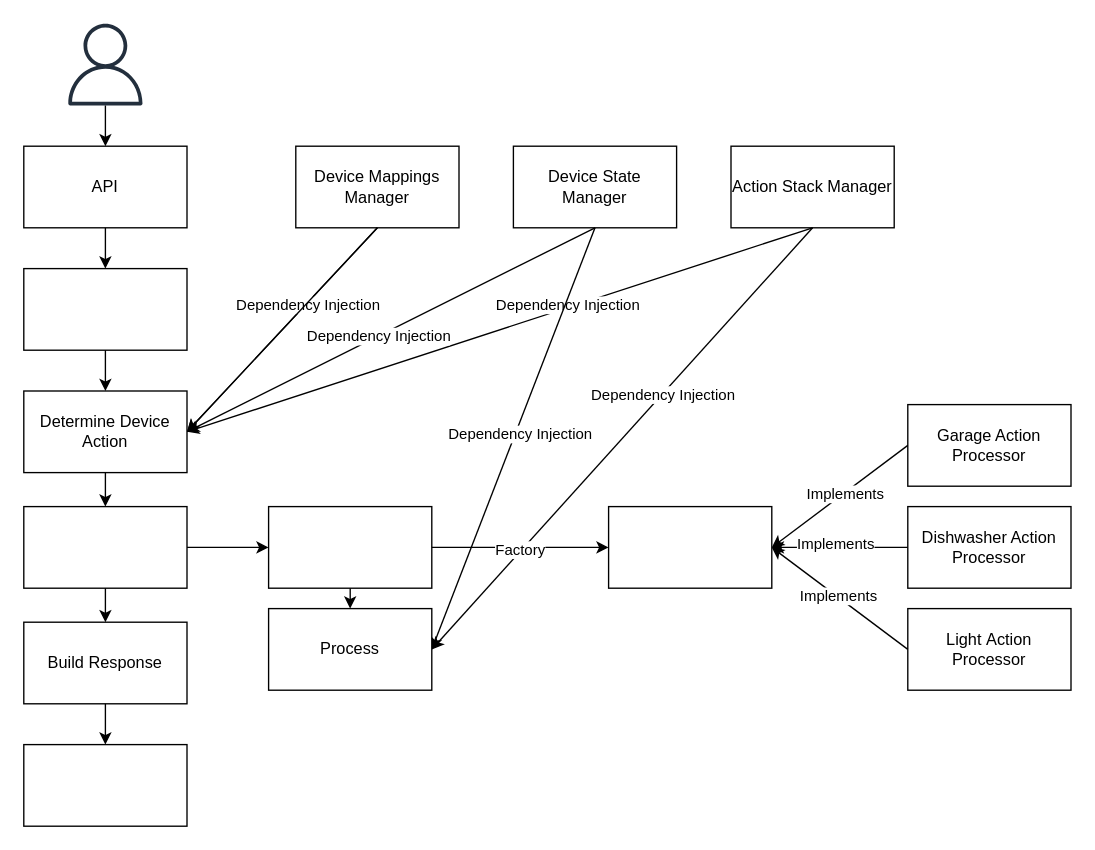
The diagram is 1095 pixels wide and 850 high, and some of its shapes have lost their labels. The shapes that lost their labels are listed below. From the top down, each one's centre as x and y in pixels, then its label:
(x=104, y=308): Parse Event
(x=104, y=546): Process Action
(x=349, y=546): Get Processor
(x=689, y=546): << interface >> Action Processor
(x=104, y=784): Respond
